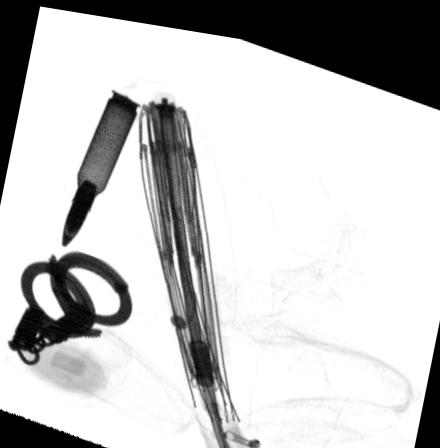Bullet: (62, 85, 141, 244)
HandCuffs: (6, 249, 133, 365)
